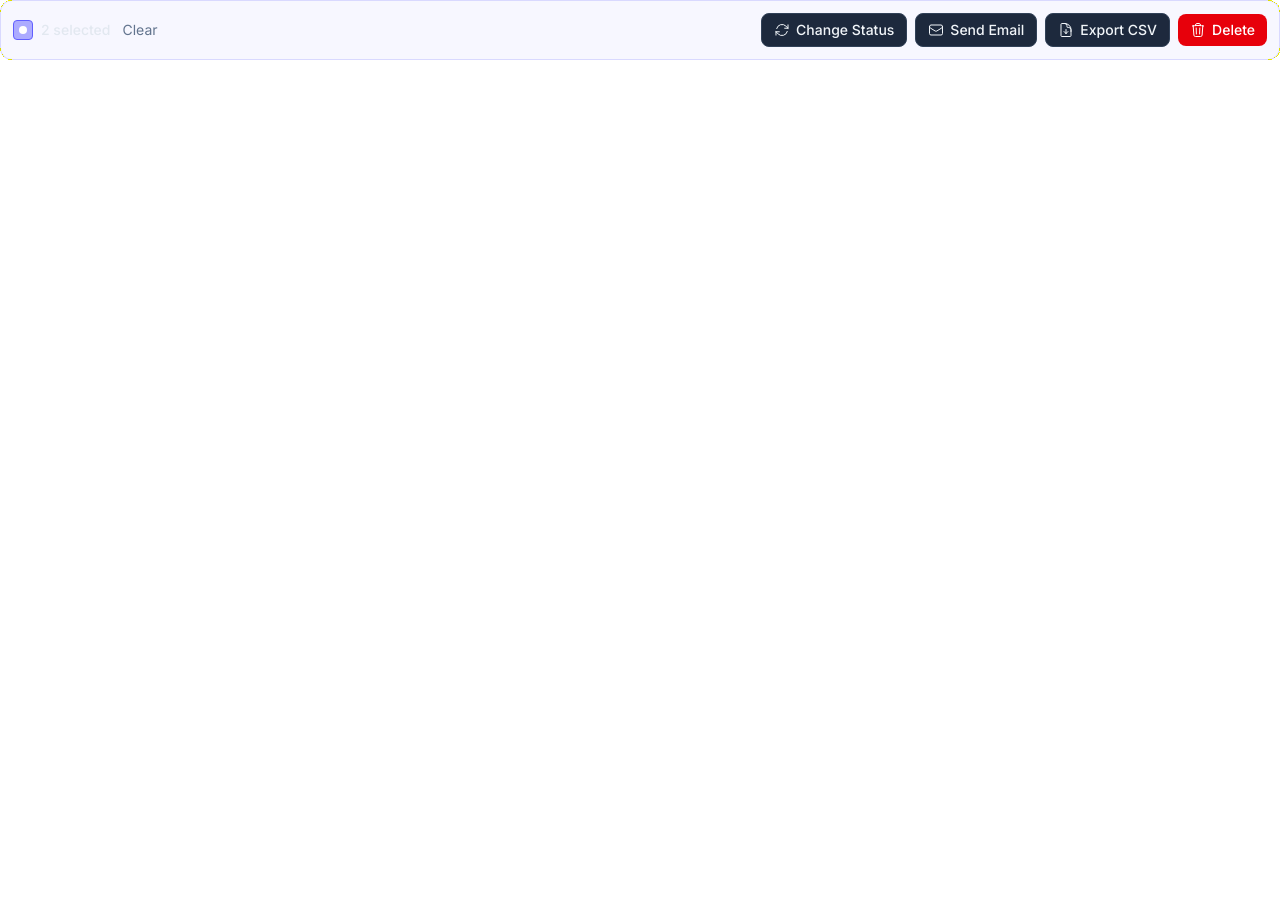
Test case: BulkActions › opens delete confirmation modal when delete clicked
Click the button "Delete".
click(1223, 30)  # box [1178, 14, 1267, 46]
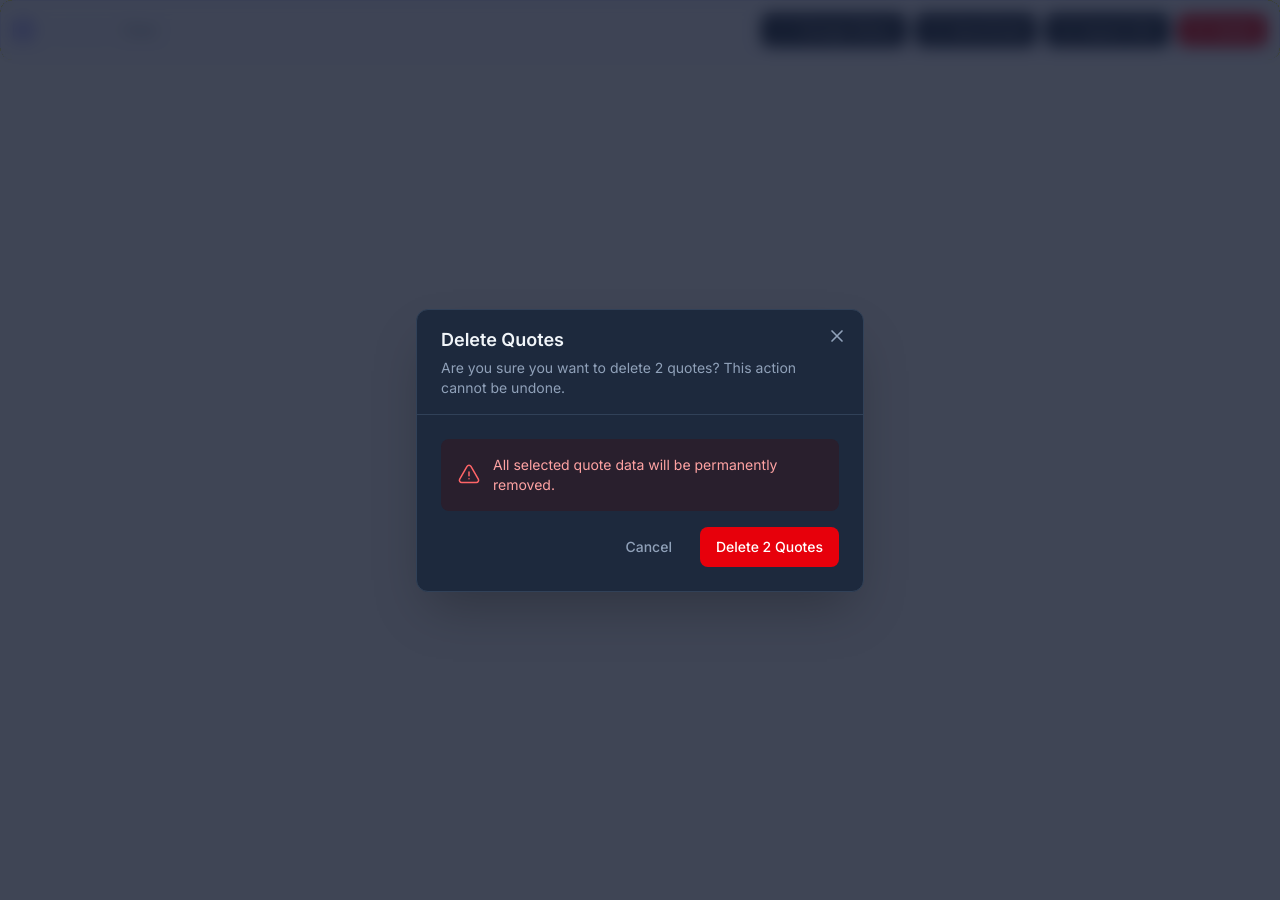
Now the heading "Delete Quotes" is shown, box [441, 328, 564, 350]
